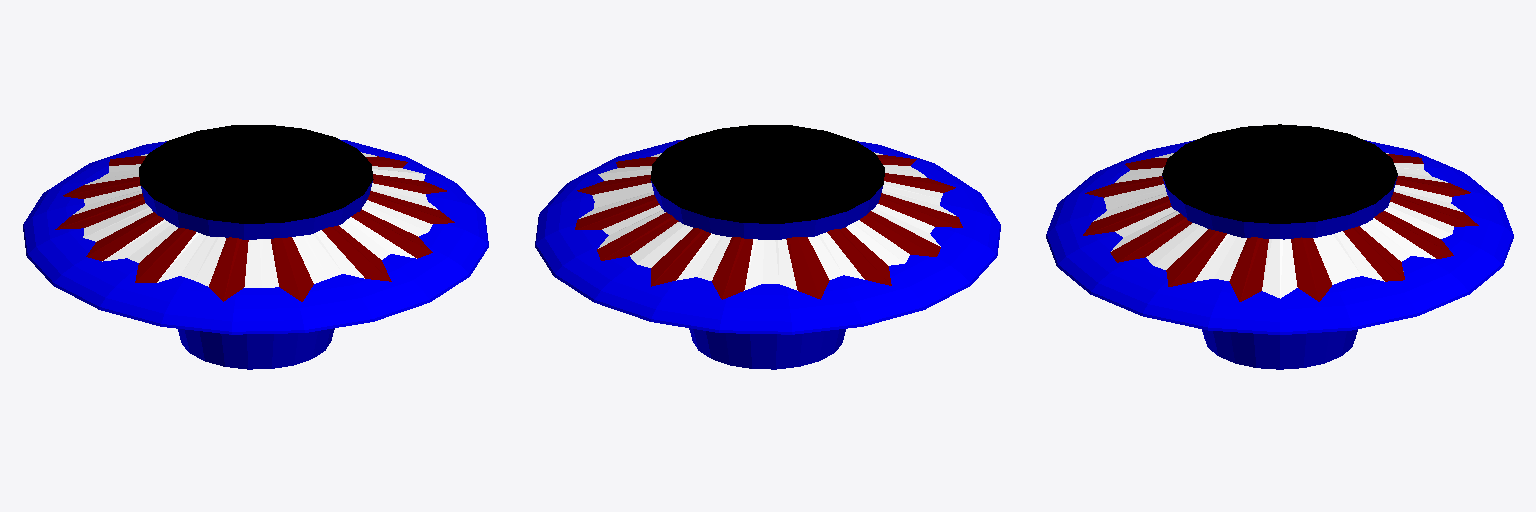
Rendered from PinballBumper2.obj.
3 views of the same model, side by side, from view 1: azimuth 30°, elevation 25°; view 2: azimuth 150°, elevation 25°; view 3: azimuth 270°, elevation 25° (orthographic).
Parts seen in each view (by area): view 1: PinballBumper:polySurface3; view 2: PinballBumper:polySurface3; view 3: PinballBumper:polySurface3.
Part boxes in pixels (x1,y1,x2,y2): PinballBumper:polySurface3: (23, 125, 488, 369); PinballBumper:polySurface3: (535, 125, 1000, 369); PinballBumper:polySurface3: (1046, 124, 1513, 369).
Bounding box in the file's own units: 39.69 × 15.26 × 39.69.